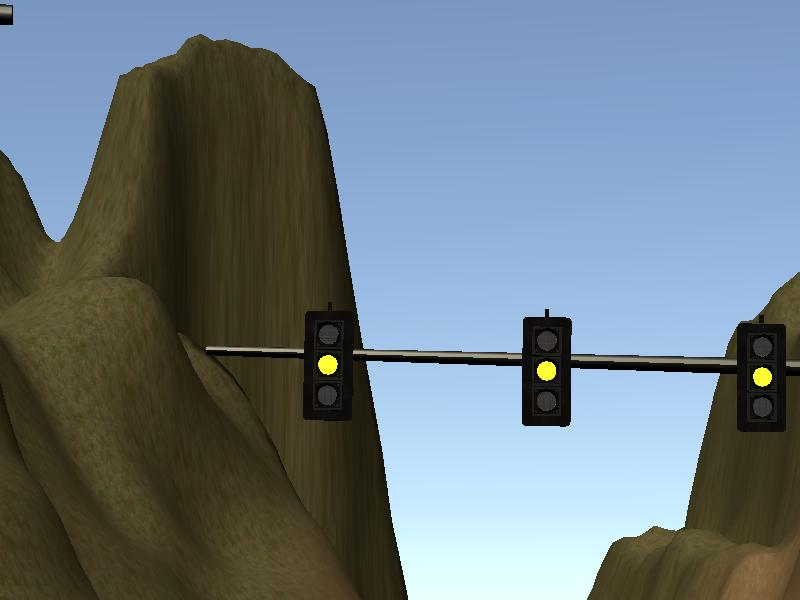not_red: (305, 311, 355, 420), (525, 316, 571, 424), (738, 321, 781, 431)
